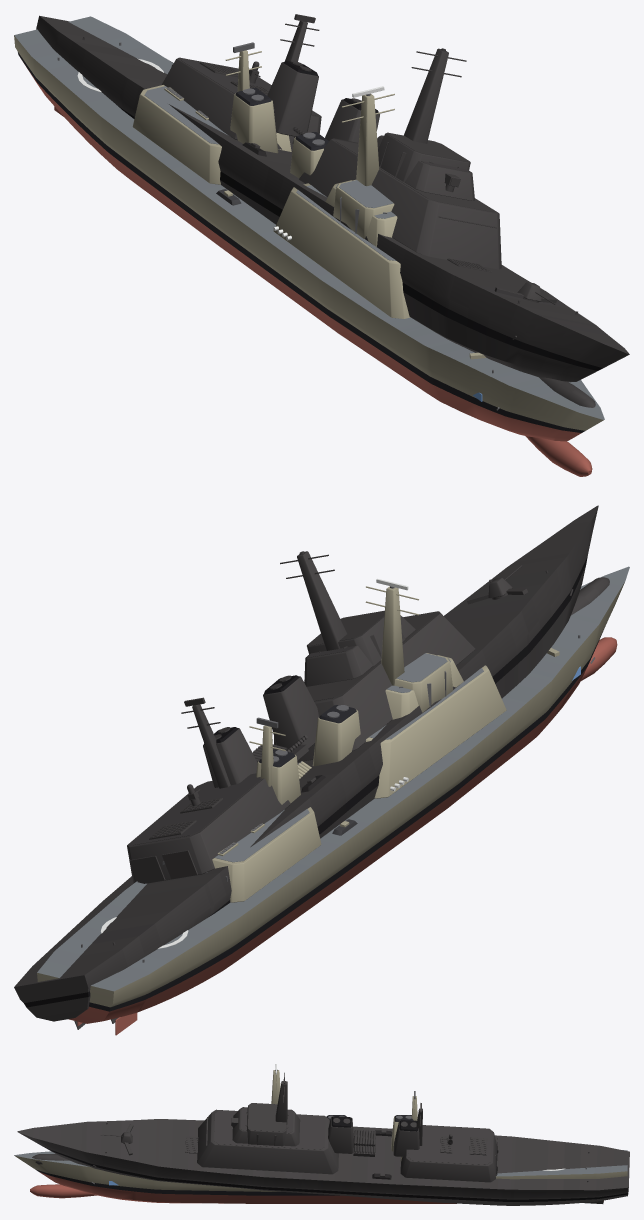
File: destroyer__sejong_the_great_class.glb
The picture shows the model from 3 angles, top to bottom: view 1: azimuth 30°, elevation 25°; view 2: azimuth 150°, elevation 25°; view 3: azimuth 270°, elevation 25°; orthographic projection. The views are drawn at different scales.
Visible parts, largest first — view 1: Hull_Mesh, Wreck; view 2: Wreck, Hull_Mesh; view 3: Wreck, Hull_Mesh.
Boxes of the visible parts, left/top/right/bottom form: Hull_Mesh: left=14, top=16, right=604, bottom=476; Wreck: left=36, top=14, right=629, bottom=407; Wreck: left=14, top=505, right=609, bottom=1029; Hull_Mesh: left=37, top=566, right=629, bottom=1035; Wreck: left=17, top=1072, right=629, bottom=1205; Hull_Mesh: left=14, top=1070, right=627, bottom=1203.
Size of what is drawn, in the model's own units: 29.7 by 44.08 by 174.
